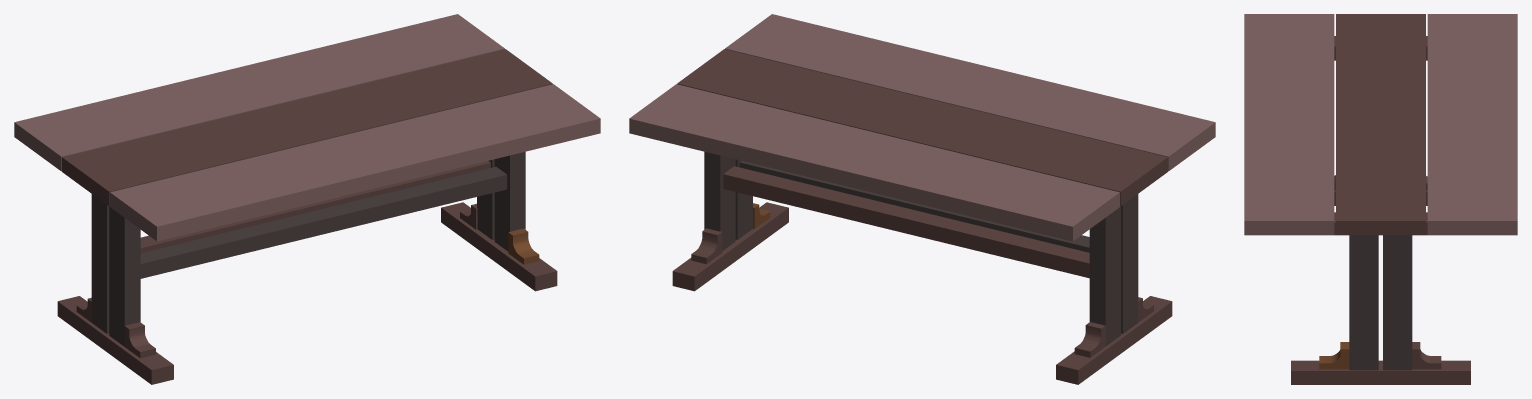
File: SM Table.fbx
The picture shows the model from 3 angles, left to right: view 1: azimuth 30°, elevation 25°; view 2: azimuth 150°, elevation 25°; view 3: azimuth 270°, elevation 25°; orthographic projection. The views are drawn at different scales.
Parts seen in each view (by area): view 1: SM_Table; view 2: SM_Table; view 3: SM_Table.
Boxes of the visible parts, left/top/right/bottom form: SM_Table: left=14, top=14, right=600, bottom=384; SM_Table: left=629, top=14, right=1215, bottom=384; SM_Table: left=1244, top=14, right=1517, bottom=384.
Bounding box in the file's own units: 95.28 × 37.07 × 53.14.
